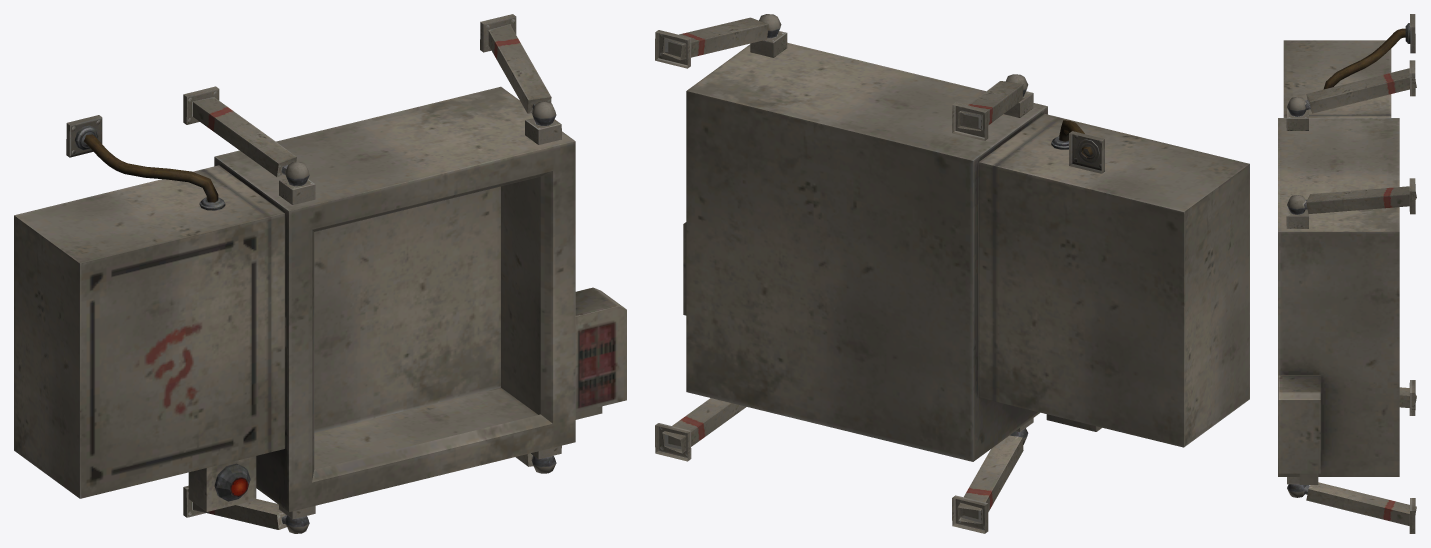
Rendered from computer_compact_terminal_flesher_base.dae.
The picture shows the model from 3 angles, left to right: view 1: azimuth 30°, elevation 25°; view 2: azimuth 150°, elevation 25°; view 3: azimuth 270°, elevation 25°; orthographic projection. The views are drawn at different scales.
Parts seen in each view (by area): view 1: computer_compact_terminal_flesher_base; view 2: computer_compact_terminal_flesher_base; view 3: computer_compact_terminal_flesher_base.
Part boxes in pixels (box(x1,y1,x2,y2)): computer_compact_terminal_flesher_base: box(14, 14, 626, 533); computer_compact_terminal_flesher_base: box(655, 14, 1249, 533); computer_compact_terminal_flesher_base: box(1278, 14, 1416, 533).
Bounding box in the file's own units: 0.5184 × 0.3835 × 0.1409.
